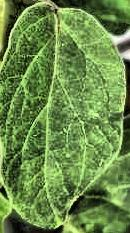HEALTHY: (0, 1, 130, 233)
